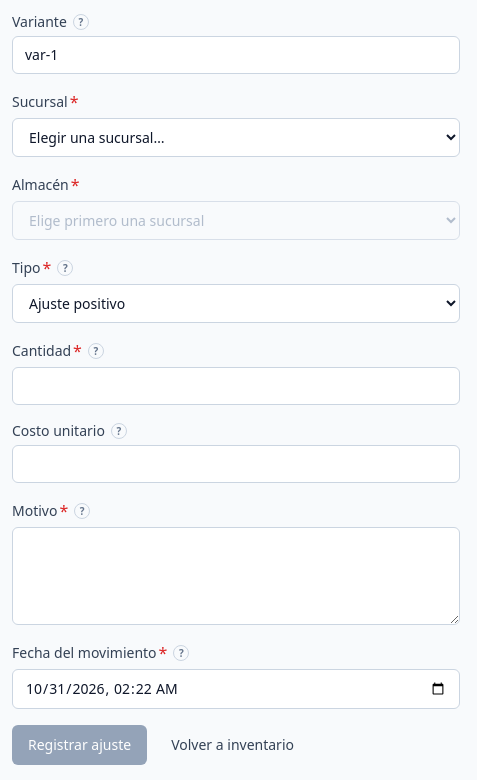
Test: AdjustmentForm › requires "Costo unitario" for a Recepción (the API rejects it without one)
Select "Sucursal Central" in the dropdown labelled "Sucursal" at (236, 138), box [12,118,460,157]
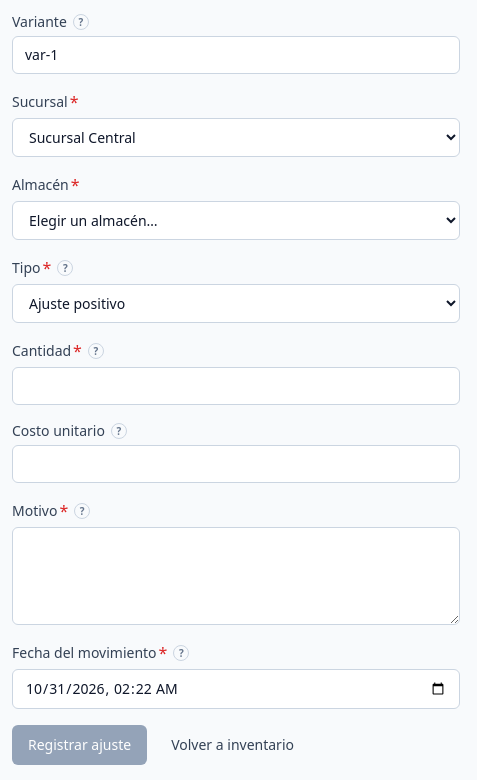
Select "Central / General" in the dropdown labelled "Almacén" at (236, 220), box [12,201,460,240]
Select "Recepción" in the dropdown labelled "Tipo" at (236, 304), box [12,284,460,323]
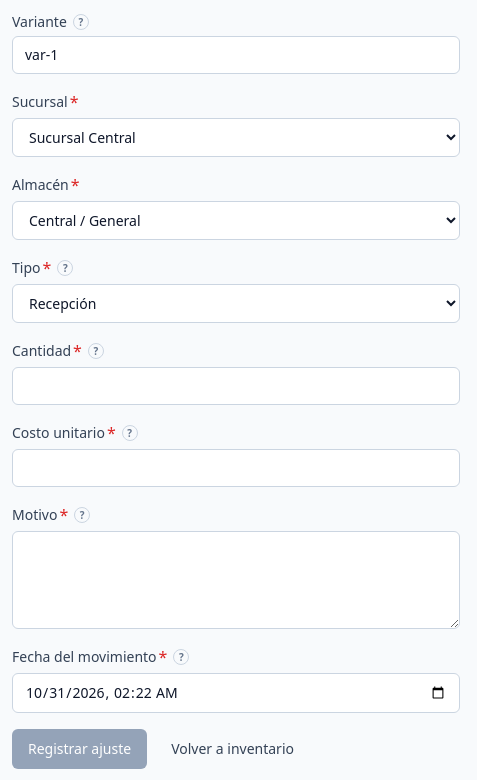
Type "3" into the number field labelled "Cantidad" at (236, 386), box [12,367,460,405]
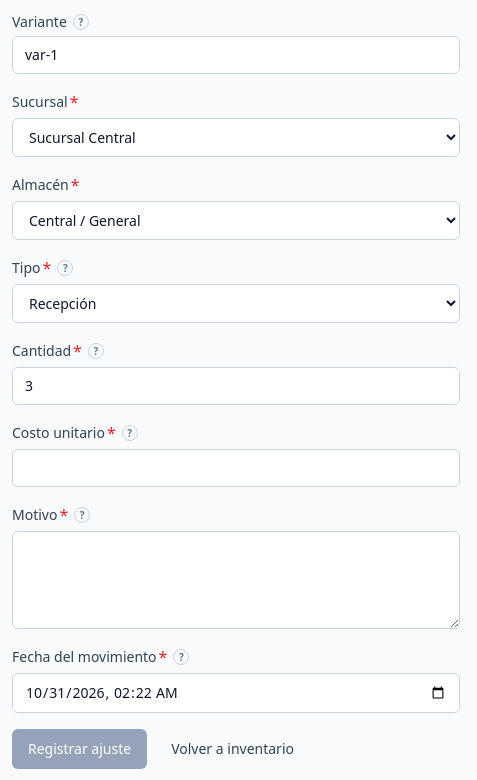
Type "compra" into the text box labelled "Motivo" at (236, 580), box [12,531,460,629]
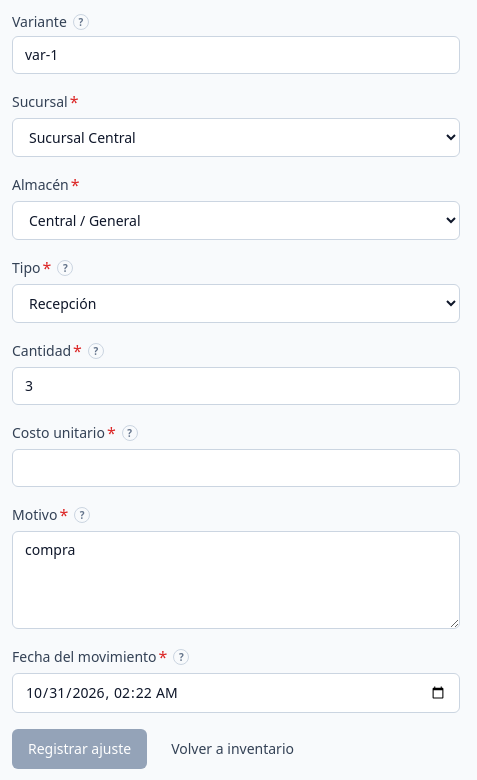
Expected: the button "Registrar ajuste" is disabled, [12,729,147,769]
Type "4" into the number field labelled "Costo unitario" at (236, 468), box [12,449,460,487]
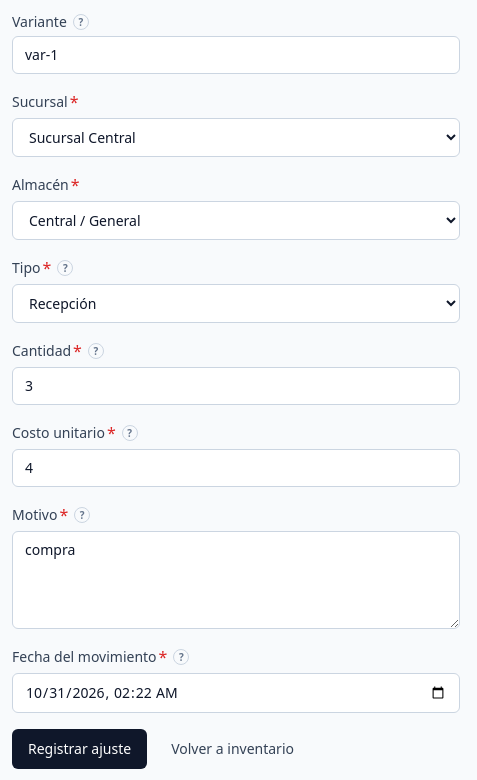
Click the button "Registrar ajuste" at (80, 749), box [12,729,147,769]
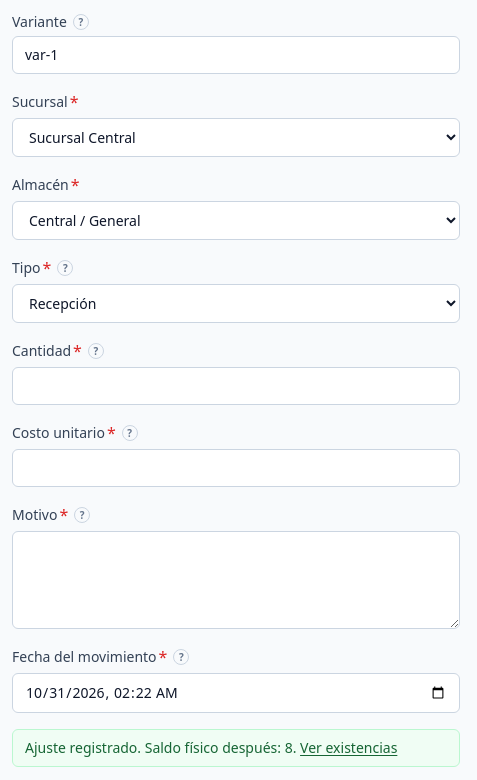
Expected: the text "Ajuste registrado. Saldo físico después: 8. Ver existencias" is shown, [25,738,447,758]
